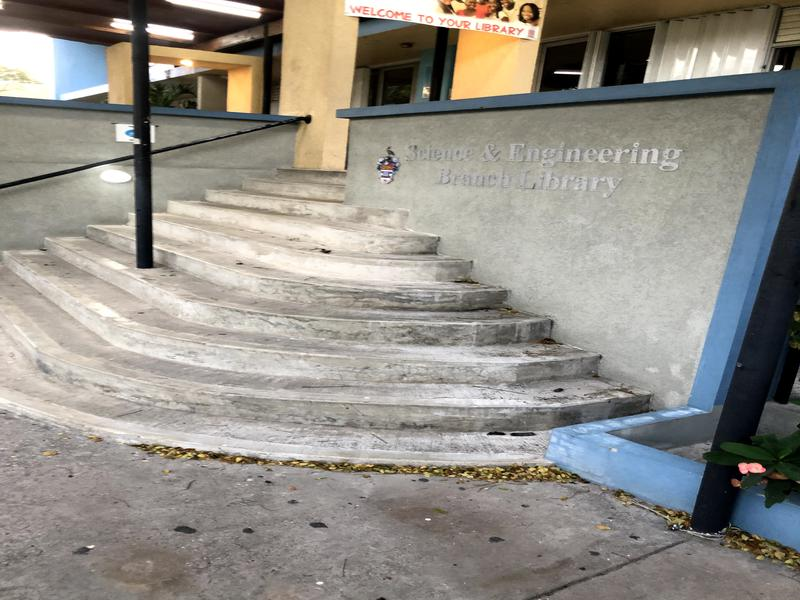18.0053644_-76.7493880_librarysign: (394, 125, 707, 216)
